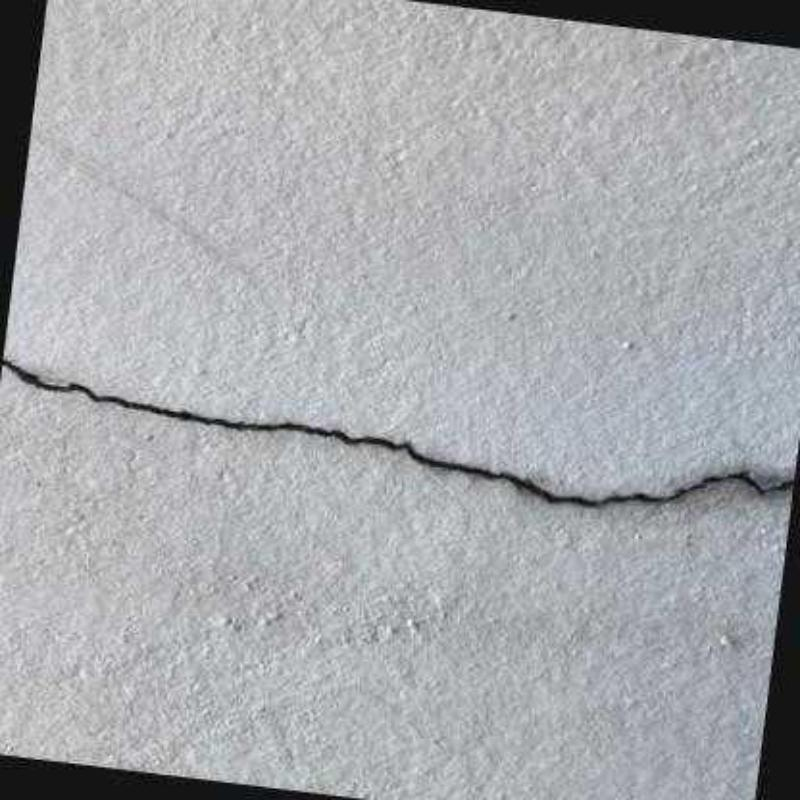pothole: (2, 358, 794, 508)
